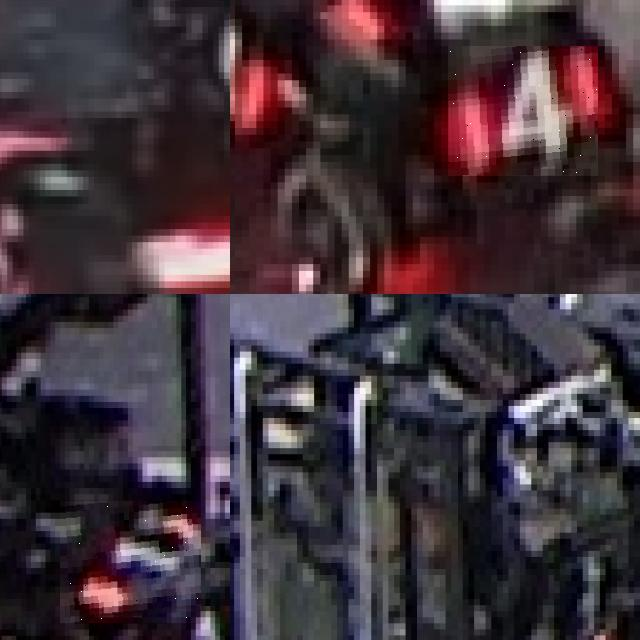R1: (60, 501, 201, 623), (147, 592, 230, 640)
R4: (448, 46, 598, 176), (230, 0, 263, 134)
